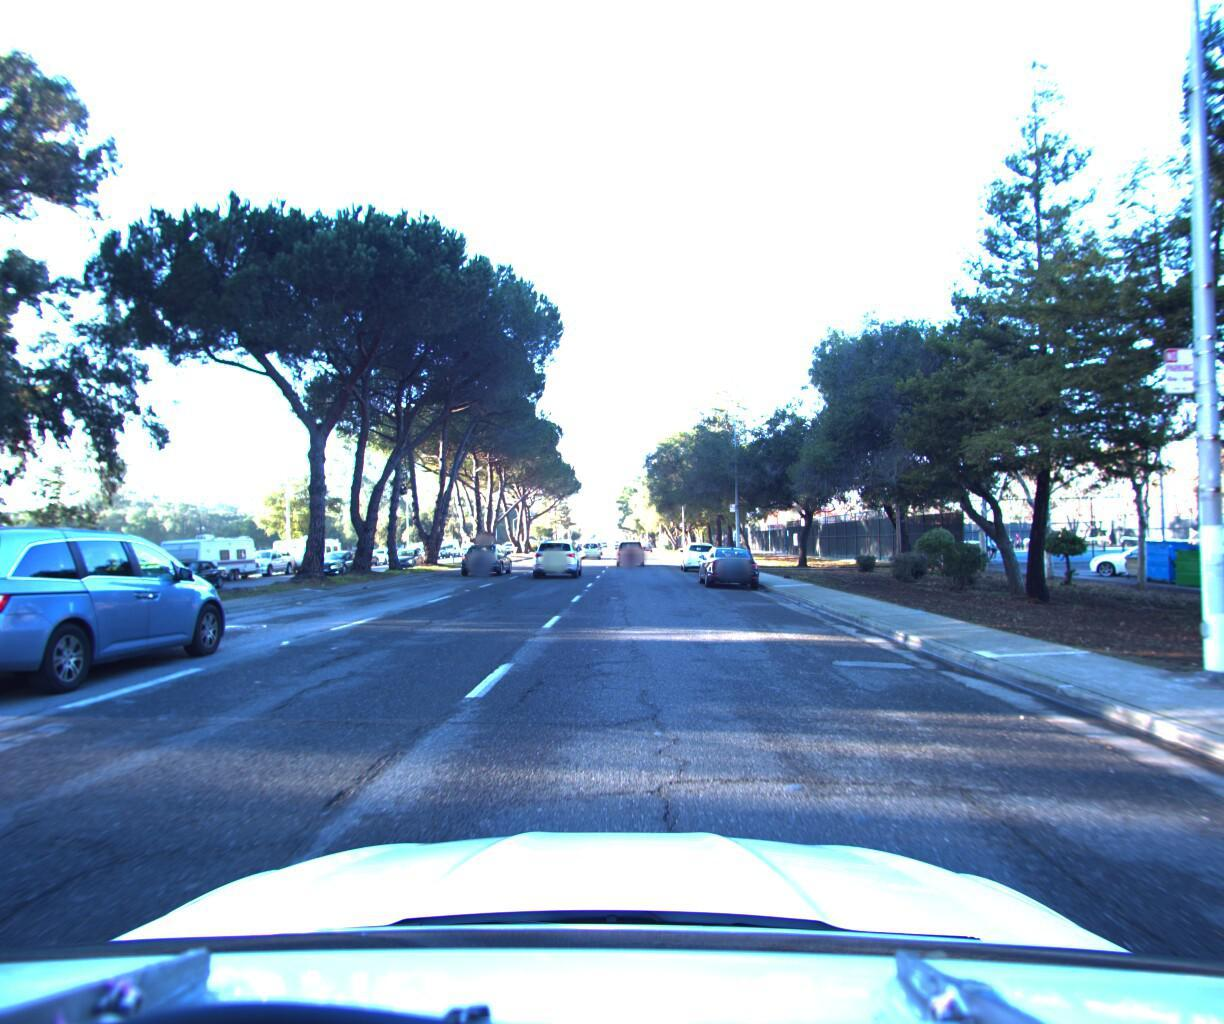car: (0, 524, 243, 718), (693, 537, 768, 585), (150, 554, 231, 591), (528, 535, 582, 578), (235, 545, 300, 577), (456, 536, 512, 573), (676, 535, 721, 567), (390, 542, 430, 566), (617, 535, 647, 561), (365, 543, 394, 562), (578, 536, 600, 555)
other_vehicle: (151, 529, 261, 585), (0, 511, 38, 633), (266, 530, 348, 573)
